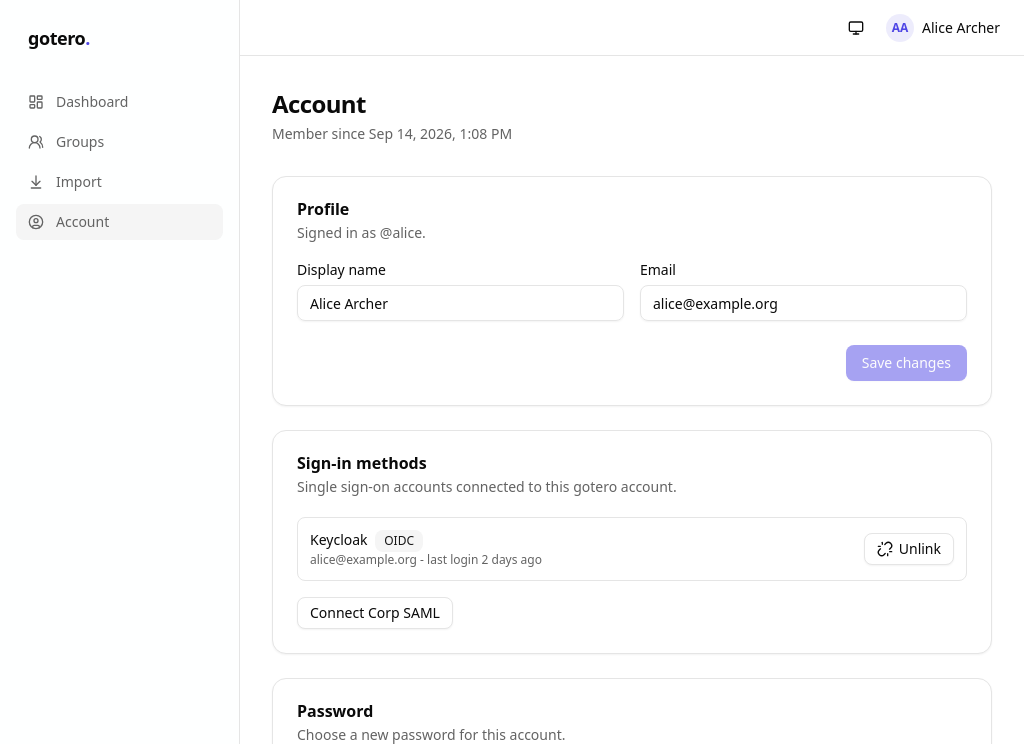
Test: account sign-in methods › unlinks an identity after confirmation
Click the button "Unlink" at (909, 549), box [864,533,954,565]
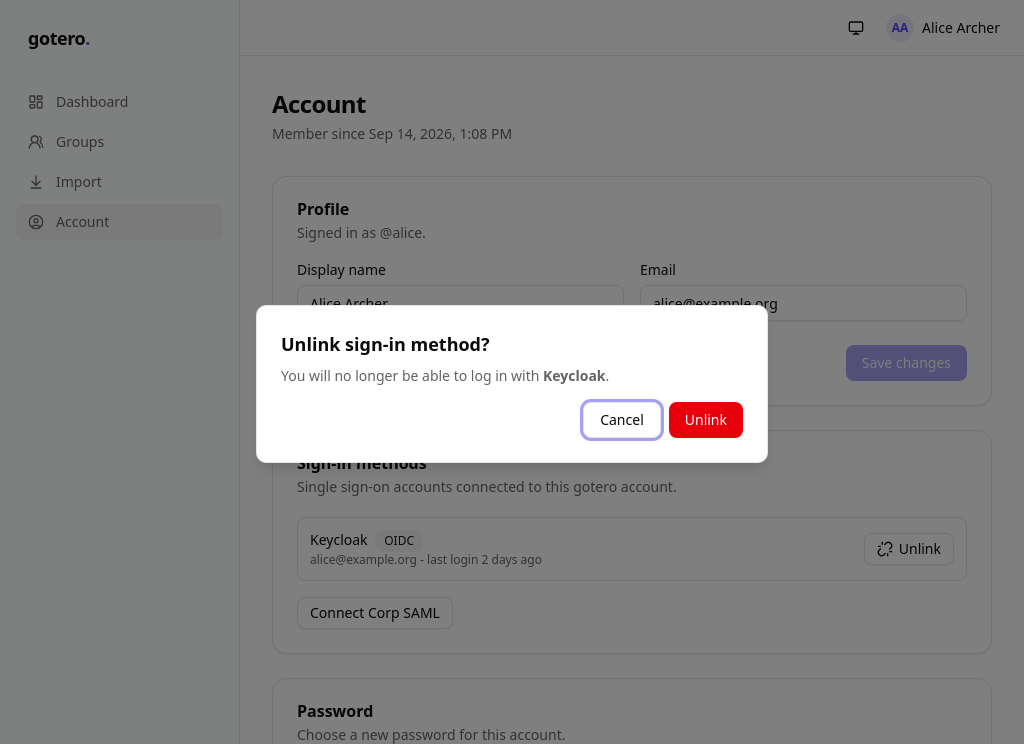
Click the button "Unlink" at (706, 420), box [669,402,743,438]
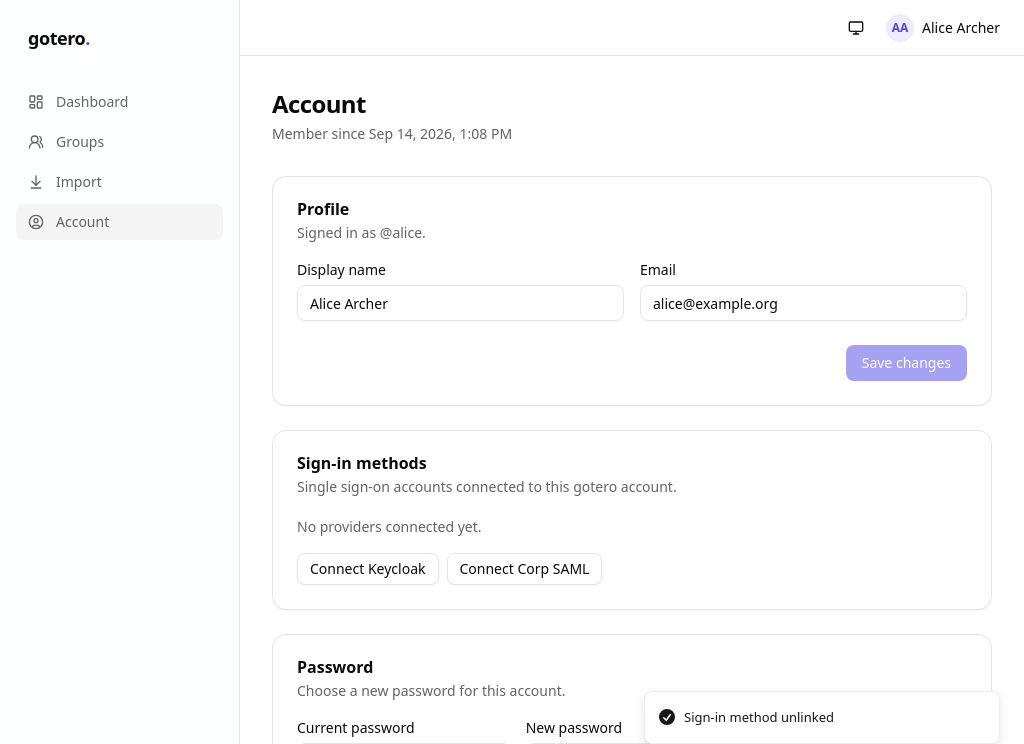
Result: the button "Connect Keycloak" is shown at [297,553,438,585]
